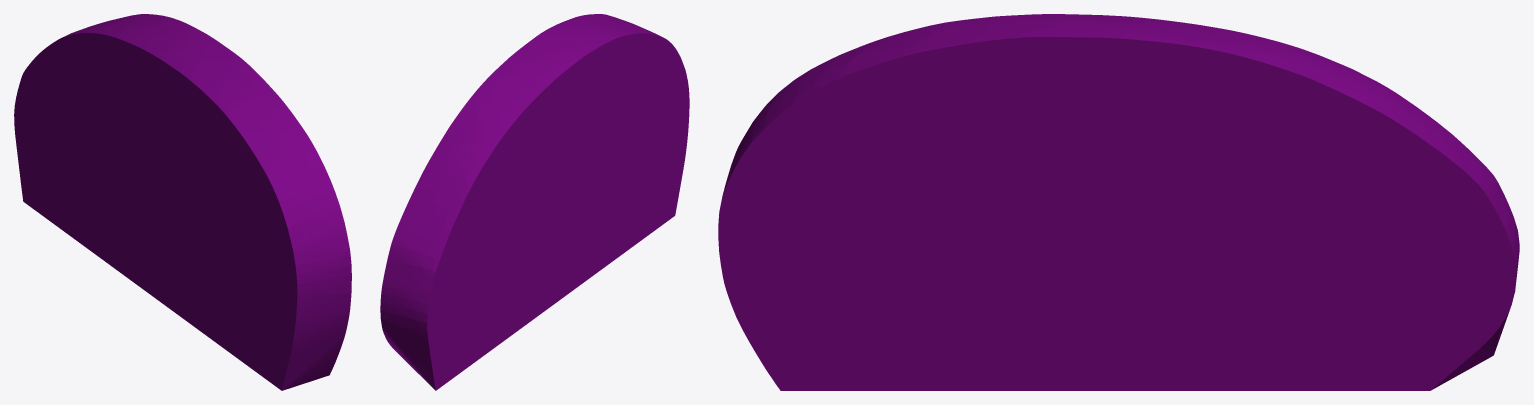
Rendered from convex_piece_11.obj.
3 renders of one model, left to right at view 1: azimuth 30°, elevation 25°; view 2: azimuth 150°, elevation 25°; view 3: azimuth 270°, elevation 25°, orthographic. The views are drawn at different scales.
Size of the model in its own units: 0.00737 by 0.0344 by 0.0705.
